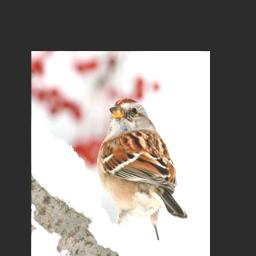Sparrow: (96, 97, 188, 242)
